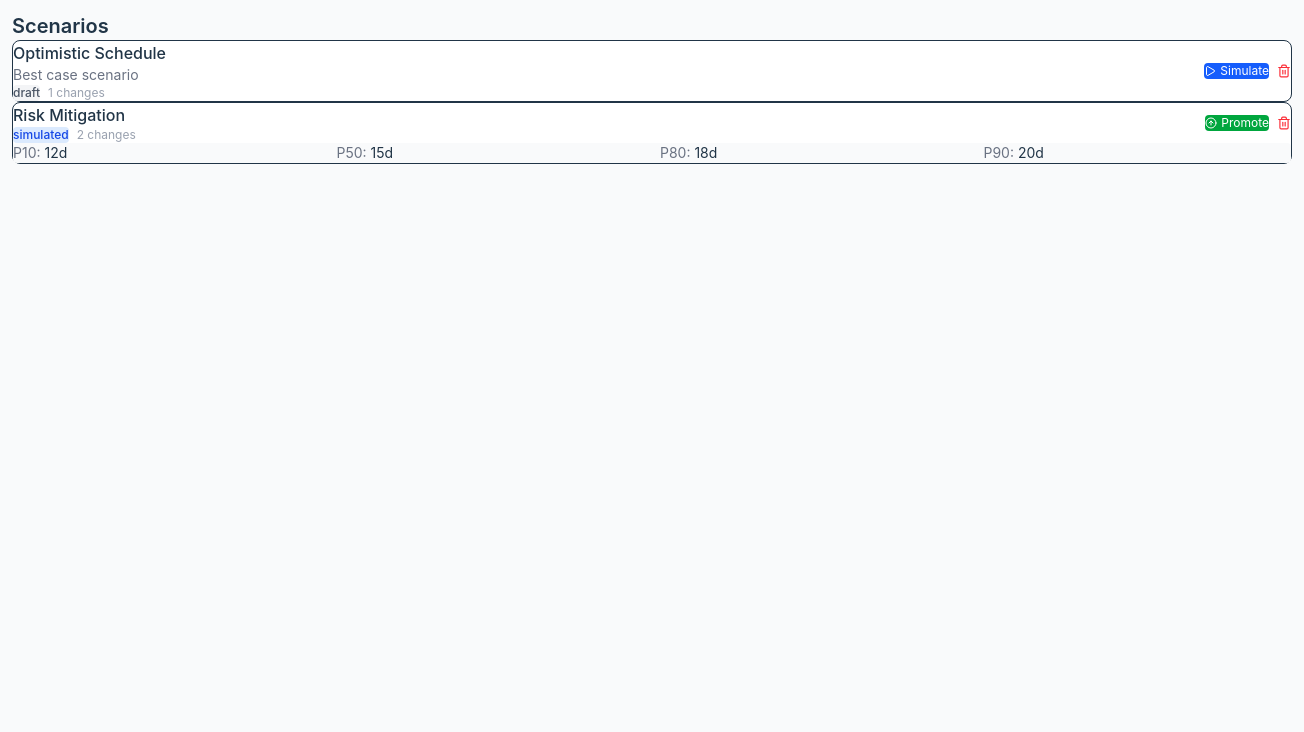
Test: ScenarioList › simulate scenario › shows success toast after successful simulation
The width and height of the screenshot is (1304, 732).
Click the button "Simulate" at (1237, 71), box [1204,63,1269,79]
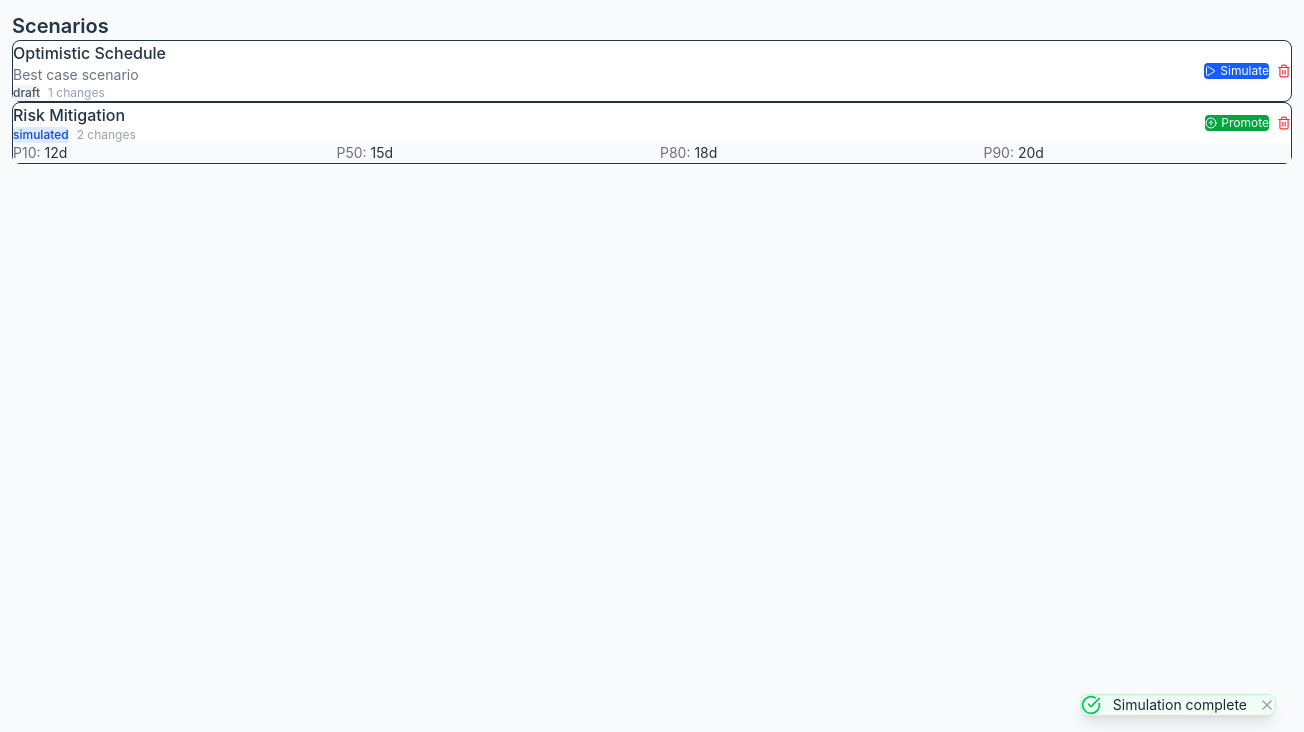
Check: the text "Simulation complete" is shown, box [1113,695,1247,715]
